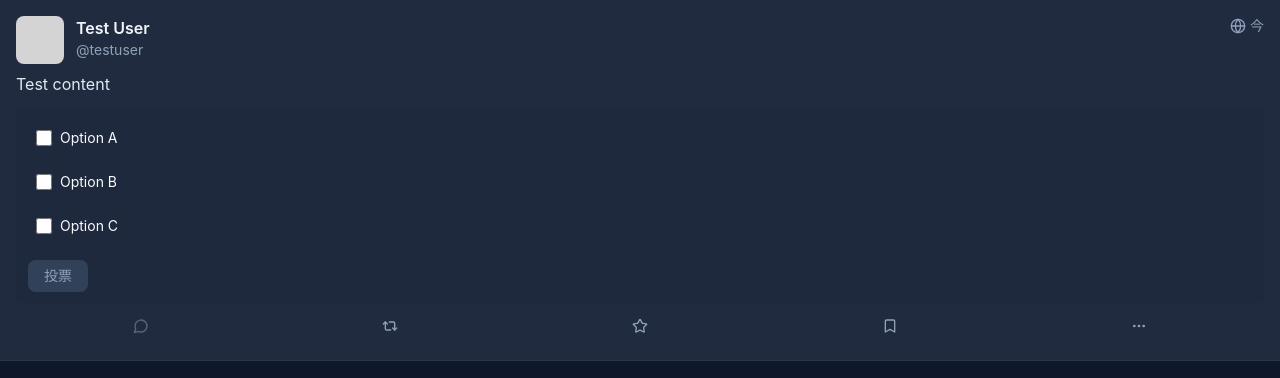
StatusCard › poll voting › should allow multiple selection for multiple-choice poll
This screenshot has width=1280, height=378.
# Select multiple options
Click the text "Option A". click: click(89, 138)
box: x1=60 y1=128 x2=118 y2=148
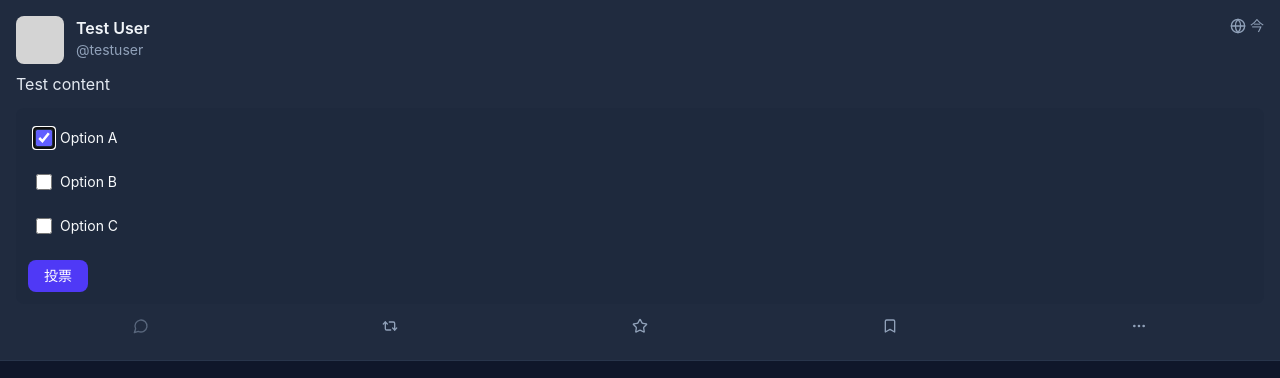
Click the text "Option C". click: click(89, 226)
box: x1=60 y1=216 x2=118 y2=236
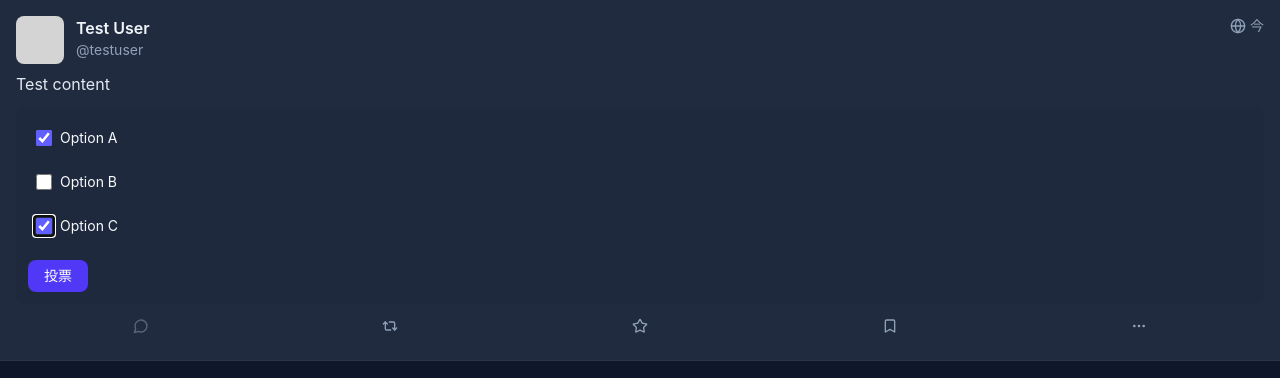
Expected: the checkbox labelled "Option B" is not checked, x1=36 y1=174 x2=52 y2=190
Now the checkbox labelled "Option A" is checked, box x1=36 y1=130 x2=52 y2=146
Now the checkbox labelled "Option C" is checked, box x1=36 y1=218 x2=52 y2=234
